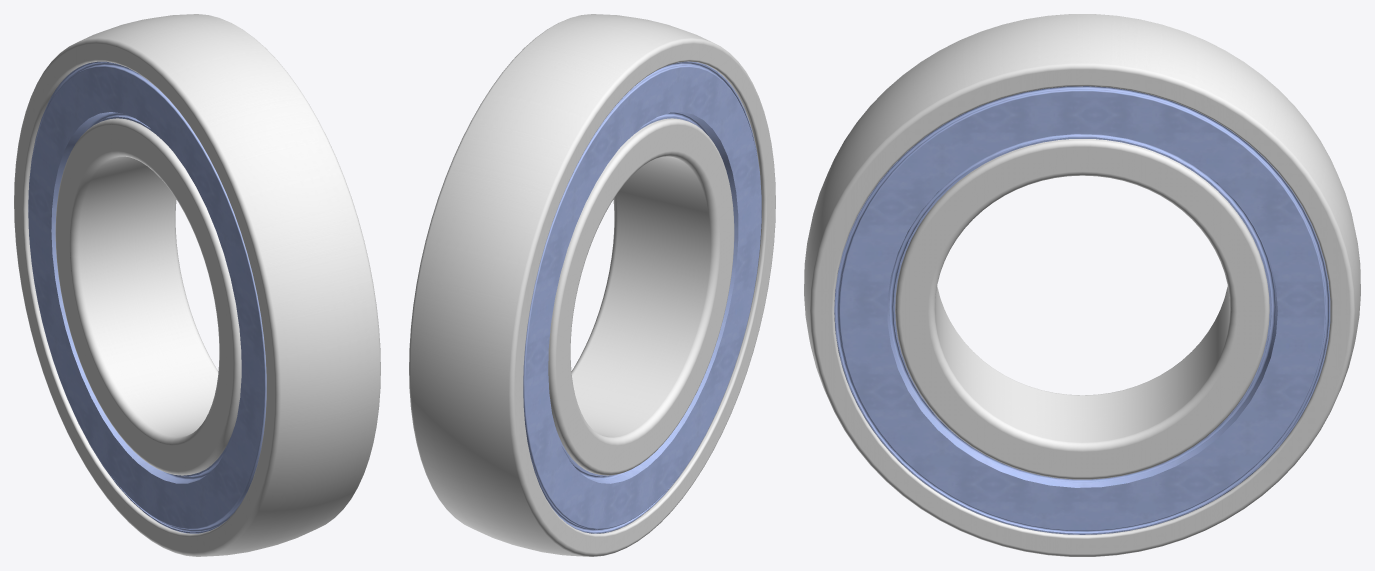
The picture shows the model from 3 angles, left to right: view 1: azimuth 30°, elevation 25°; view 2: azimuth 150°, elevation 25°; view 3: azimuth 270°, elevation 25°; orthographic projection. The views are drawn at different scales.
Visible parts, largest first — view 1: texture-2, texture, texture-4; view 2: texture-2, texture, texture-4; view 3: texture-4, texture-2, texture.
Boxes of the visible parts, x1=… form: texture-2: x1=14, y1=14, x2=380, y2=556; texture: x1=55, y1=118, x2=241, y2=475; texture-4: x1=28, y1=61, x2=266, y2=533; texture-2: x1=409, y1=14, x2=775, y2=556; texture: x1=548, y1=118, x2=734, y2=475; texture-4: x1=523, y1=61, x2=761, y2=533; texture-4: x1=834, y1=86, x2=1330, y2=534; texture-2: x1=804, y1=14, x2=1360, y2=556; texture: x1=895, y1=139, x2=1269, y2=479.
Size of the model in its own units: 0.019 by 0.0849 by 0.0849.
7 materials, 6 textured.
